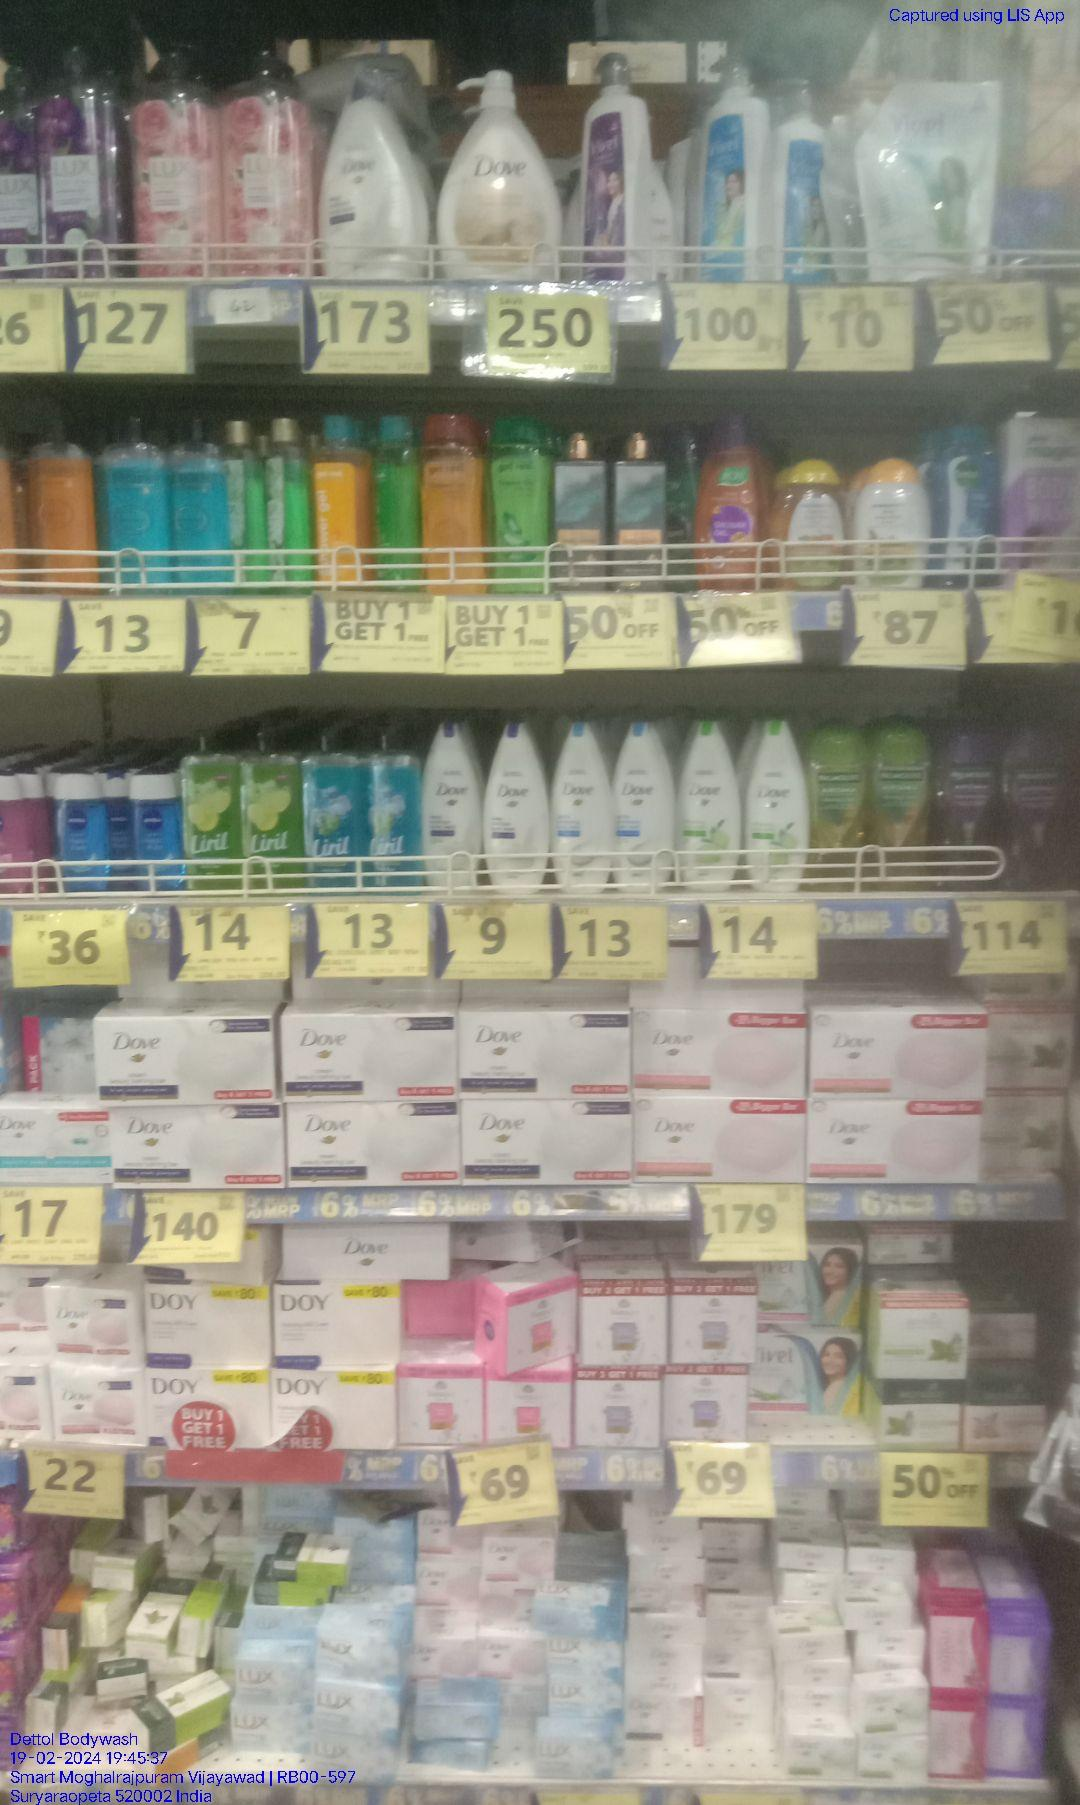Dettol_Bodywash_Cool: (936, 427, 999, 588)
Dove_Deep_Moisture_Body_Wash_250ML: (483, 723, 550, 890), (427, 724, 482, 886)
Dove_Gentle_Exfoliating_Body_Wash_250ML: (615, 724, 675, 887), (554, 724, 612, 890)
Dove_Refreshing_Body_Wash_250ML: (743, 721, 810, 892), (679, 720, 741, 890)
Get_Real_Shower_Gel_Moisturising_Glycerin_300ML: (422, 418, 482, 589)
Joy_Shower_Gel_Mandarin_and_Lemongrass_250ML: (696, 405, 770, 589)
Liril_Cooling_Mint_Body_Wash_250ML: (309, 725, 368, 891), (372, 729, 423, 888)
Liril_Lime_and_Tea_Tree_Oil_Body_Wash_250ML: (244, 729, 303, 887), (183, 732, 240, 888)
Palmolive_Aroma_Morning_Tonic_Shower_Gel_250ML: (813, 730, 870, 896), (874, 729, 930, 890)
Palmolive_Aroma_Relax_250ML: (1000, 728, 1067, 892), (936, 732, 994, 891)
Pears_Pure_Glycerin_and_Mint_Extracts_Body_Wash_250ML: (99, 414, 166, 594), (170, 415, 228, 593)
